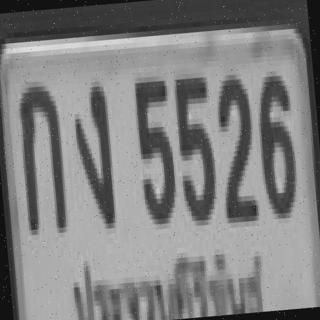A01: (14, 78, 66, 228)
A07: (69, 76, 115, 225)
N02: (212, 68, 256, 218)
N05: (171, 67, 217, 222), (130, 70, 176, 220)
N06: (252, 70, 298, 215)
P50: (62, 239, 268, 320)
